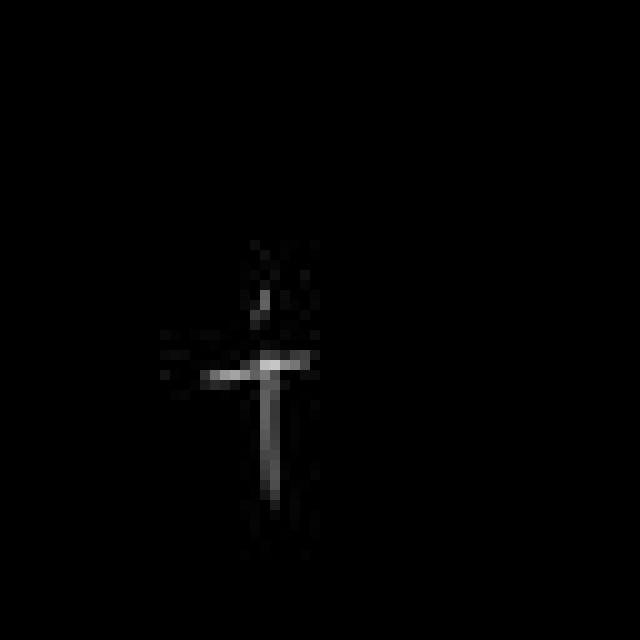1000 -a thousand-: (200, 278, 319, 510)
